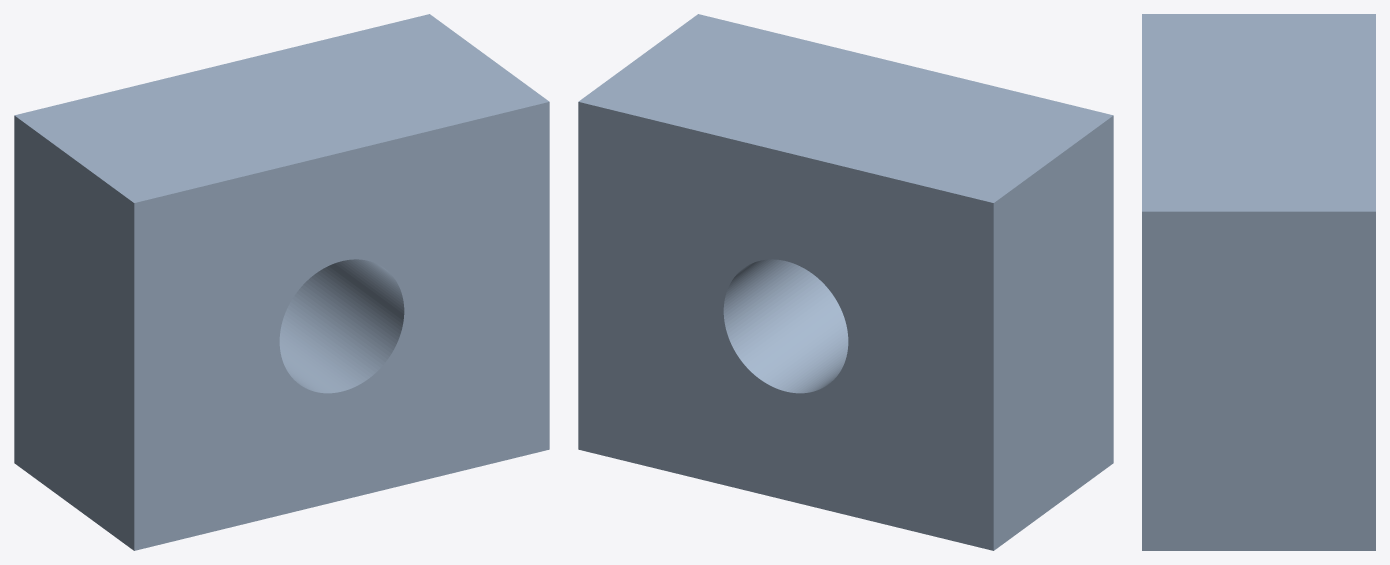
File: cadViewportBoxBore.glb
The picture shows the model from 3 angles, left to right: view 1: azimuth 30°, elevation 25°; view 2: azimuth 150°, elevation 25°; view 3: azimuth 270°, elevation 25°; orthographic projection. The views are drawn at different scales.
Parts seen in each view (by area): view 1: Manual transaction preview; view 2: Manual transaction preview; view 3: Manual transaction preview.
Boxes of the visible parts, x1,y1,x2,y2 form: Manual transaction preview: (14,14,549,550); Manual transaction preview: (578,14,1113,550); Manual transaction preview: (1142,14,1375,550).
Size of the model in its own units: 20 by 16 by 10.
